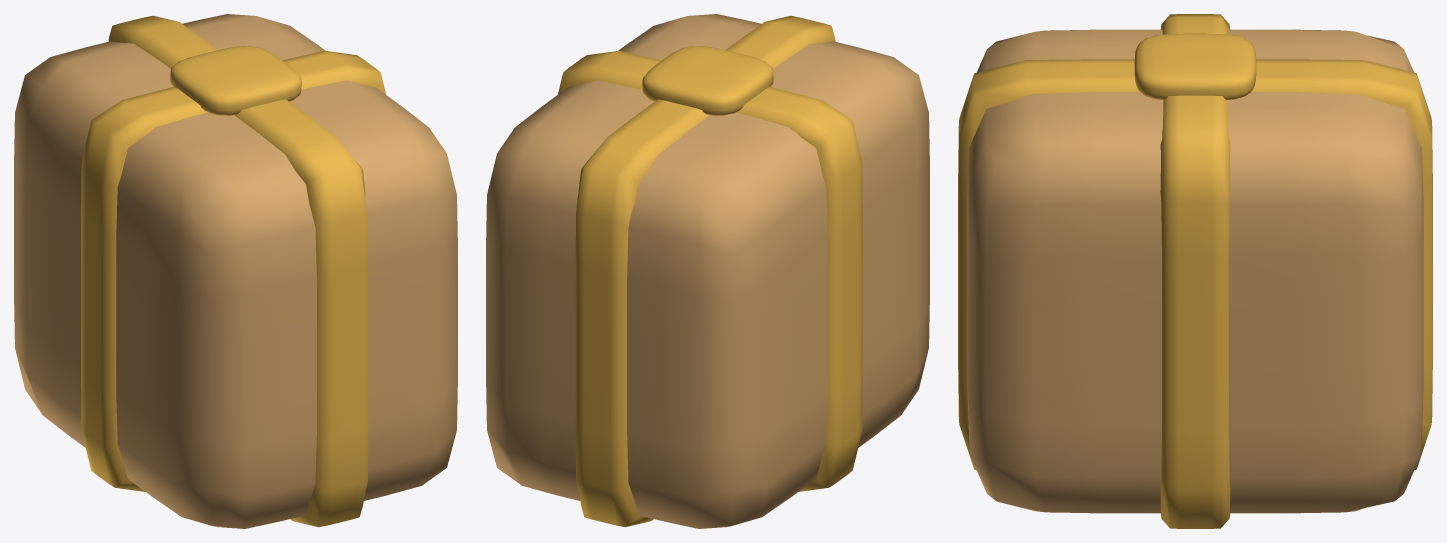
The model's file is courier-parcel.glb.
3 views of the same model, side by side, from view 1: azimuth 30°, elevation 25°; view 2: azimuth 150°, elevation 25°; view 3: azimuth 270°, elevation 25° (orthographic). The views are drawn at different scales.
Visible parts, largest first — view 1: courier-parcel; view 2: courier-parcel; view 3: courier-parcel.
Boxes of the visible parts, x1,y1,x2,y2 form: courier-parcel: (14,14,457,528); courier-parcel: (486,14,929,528); courier-parcel: (958,14,1432,528).
Bounding box in the file's own units: 0.232 × 0.304 × 0.312.
